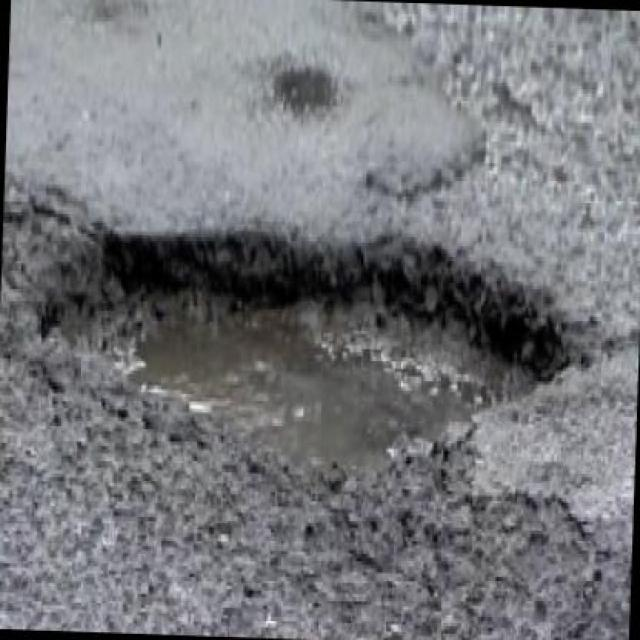pothole1: (25, 206, 601, 497), (263, 45, 345, 121)
